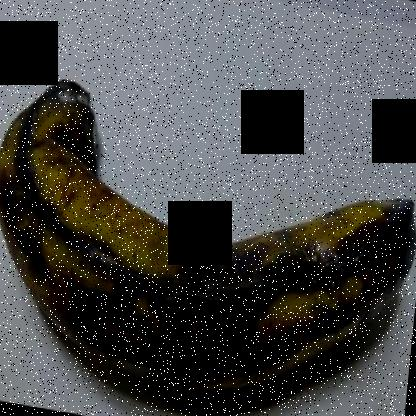overripe: (0, 77, 415, 400)
rotten: (0, 21, 104, 127)
